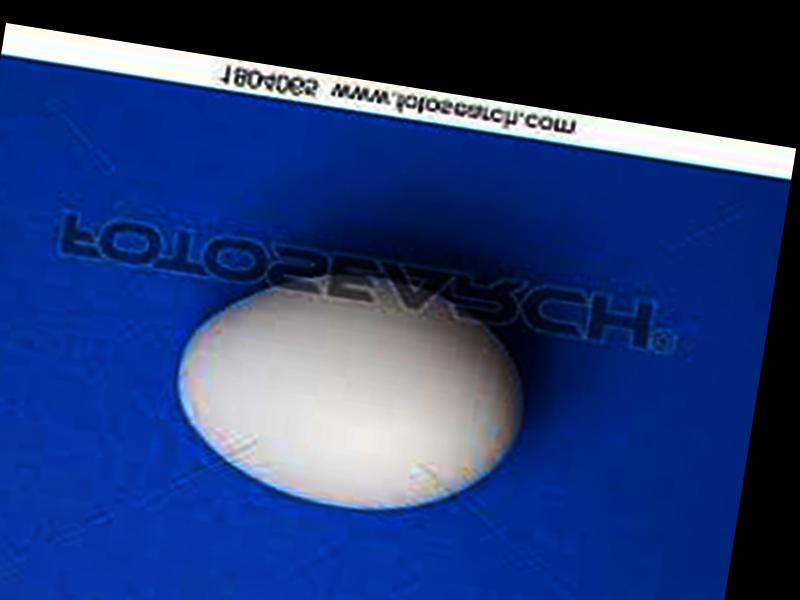Eggs: (162, 241, 541, 532)
